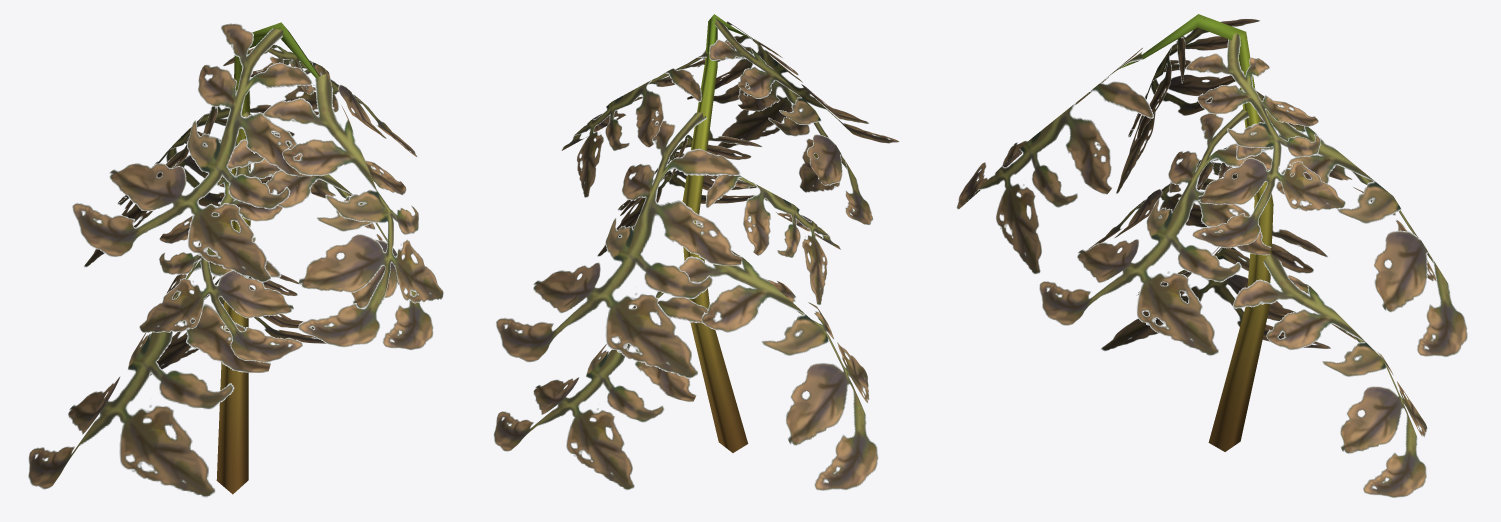
Rendered from plant_tomato_S4.gltf.
3 views of the same model, side by side, from view 1: azimuth 30°, elevation 25°; view 2: azimuth 150°, elevation 25°; view 3: azimuth 270°, elevation 25° (orthographic). The views are drawn at different scales.
Parts seen in each view (by area): view 1: plant_tomato_S4; view 2: plant_tomato_S4; view 3: plant_tomato_S4.
Boxes of the visible parts, bbox=[...] form: plant_tomato_S4: bbox=[28, 22, 443, 496]; plant_tomato_S4: bbox=[494, 14, 898, 490]; plant_tomato_S4: bbox=[957, 14, 1467, 497].
Bounding box in the file's own units: 0.575 × 0.6523 × 0.715.
1 material, 1 textured.
